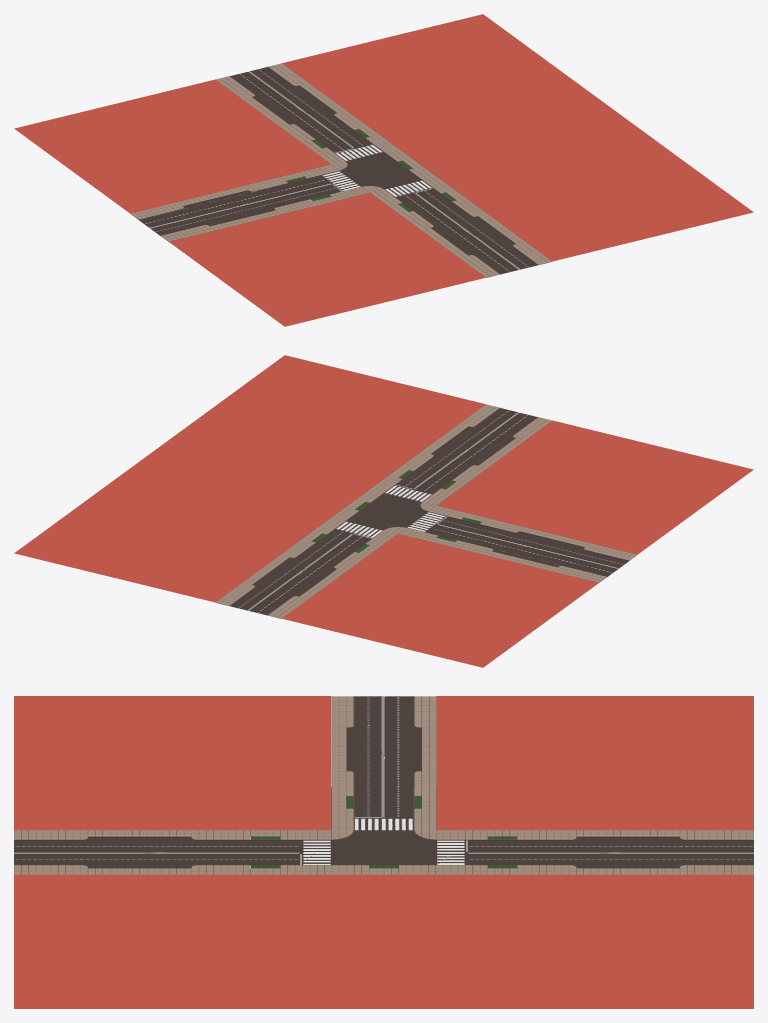
File: TileCity5_2.fbx
The picture shows the model from 3 angles, top to bottom: view 1: azimuth 30°, elevation 25°; view 2: azimuth 150°, elevation 25°; view 3: azimuth 270°, elevation 25°; orthographic projection. The views are drawn at different scales.
Visible parts, largest first — view 1: Sidewalk1.015, Road1.005, Road1.004, Road1.006, Sidewalk1.178, Sidewalk1.164, Sidewalk1.160; view 2: Sidewalk1.015, Road1.005, Road1.004, Road1.006, Sidewalk1.178, Sidewalk1.160, Sidewalk1.164; view 3: Sidewalk1.015, Road1.005, Road1.004, Road1.006, Sidewalk1.160, Sidewalk1.164, Sidewalk1.178, Sidewalk1.169, Sidewalk1.174, Sidewalk1.034, Road1.019, Road1.017 (+17 smaller).
Boxes of the visible parts, x1=… form: Sidewalk1.015: x1=14, y1=14, x2=753, y2=326; Road1.005: x1=230, y1=67, x2=537, y2=274; Road1.004: x1=139, y1=176, x2=340, y2=235; Road1.006: x1=340, y1=152, x2=421, y2=189; Sidewalk1.178: x1=266, y1=169, x2=351, y2=208; Sidewalk1.164: x1=381, y1=184, x2=473, y2=220; Sidewalk1.160: x1=294, y1=121, x2=386, y2=156; Sidewalk1.015: x1=14, y1=355, x2=753, y2=667; Road1.005: x1=230, y1=408, x2=537, y2=615; Road1.004: x1=427, y1=517, x2=628, y2=576; Road1.006: x1=346, y1=493, x2=427, y2=530; Sidewalk1.178: x1=416, y1=510, x2=501, y2=549; Sidewalk1.160: x1=294, y1=525, x2=386, y2=561; Sidewalk1.164: x1=381, y1=462, x2=473, y2=497; Sidewalk1.015: x1=14, y1=696, x2=753, y2=1008; Road1.005: x1=14, y1=840, x2=753, y2=865; Road1.004: x1=354, y1=696, x2=413, y2=817; Road1.006: x1=331, y1=830, x2=436, y2=864; Sidewalk1.160: x1=465, y1=830, x2=539, y2=874; Sidewalk1.164: x1=228, y1=830, x2=302, y2=874; Sidewalk1.178: x1=331, y1=787, x2=436, y2=817; Sidewalk1.169: x1=606, y1=830, x2=650, y2=874; Sidewalk1.174: x1=117, y1=830, x2=161, y2=874; Sidewalk1.034: x1=331, y1=740, x2=436, y2=758; Road1.019: x1=354, y1=817, x2=413, y2=830; Road1.017: x1=436, y1=840, x2=468, y2=864.
Size of the model in its own units: 20000 by 10 by 20000.
